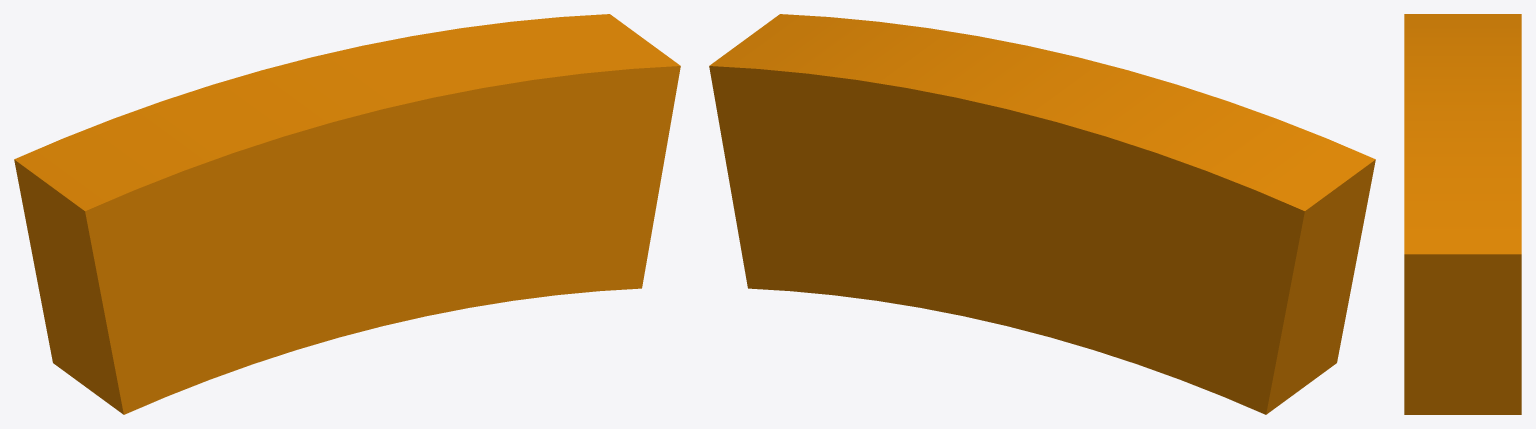
Rendered from Lava.fbx.
3 renders of one model, left to right at view 1: azimuth 30°, elevation 25°; view 2: azimuth 150°, elevation 25°; view 3: azimuth 270°, elevation 25°, orthographic. The views are drawn at different scales.
Parts seen in each view (by area): view 1: Lava; view 2: Lava; view 3: Lava.
Boxes of the visible parts, box(x1,y1,x2,y2) form: Lava: box(14, 14, 680, 414); Lava: box(709, 14, 1375, 414); Lava: box(1404, 14, 1521, 414).
Bounding box in the file's own units: 9.7 × 3.77 × 2.
